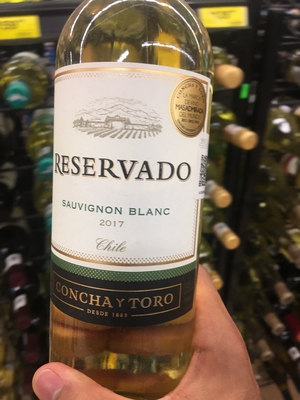reservado sauvignon blanc: (49, 5, 199, 399)
